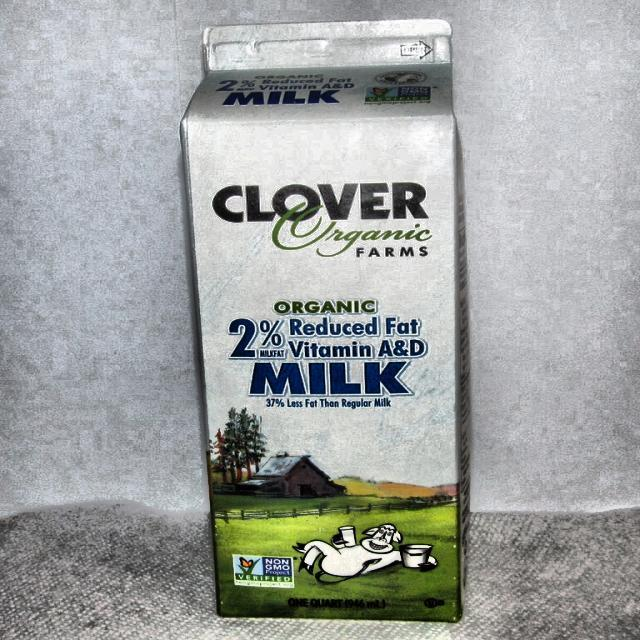cardboard: (178, 19, 468, 622)
